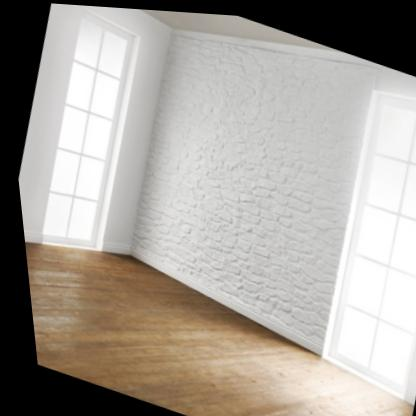Window: (313, 84, 416, 394), (38, 7, 138, 252)
